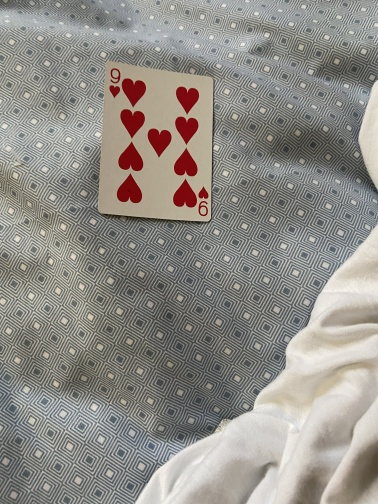nine: (96, 60, 215, 223)
